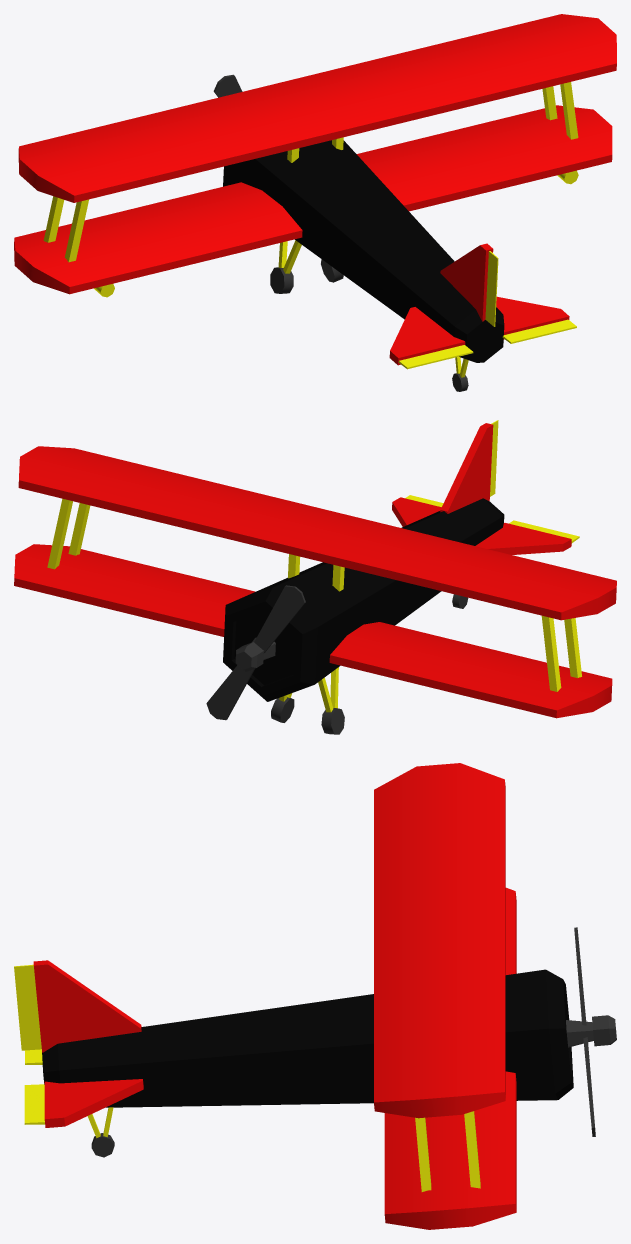
File: AirPlane2.fbx
3 renders of one model, top to bottom at view 1: azimuth 30°, elevation 25°; view 2: azimuth 150°, elevation 25°; view 3: azimuth 270°, elevation 25°, orthographic. The views are drawn at different scales.
Visible parts, largest first — view 1: Box004, Box003, Cylinder001, Box019, Box017, Box018, Box009, Rudder, ElevatorLeft, ElevatorRight, Box008, Box010 (+1 smaller); view 2: Box004, Box003, Cylinder001, Box017, Box019, Box001, Box002, Box010, Box018, Box007, Box009, Cylinder003 (+4 smaller); view 3: Box004, Cylinder001, Box003, Box017, Box018, Rudder, ElevatorRight, Box007, Box008, Cylinder003.
Boxes of the visible parts, <box> form: Box004: <box>18,14,616,202</box>; Box003: <box>14,105,612,294</box>; Cylinder001: <box>223,140,504,362</box>; Box019: <box>389,307,465,365</box>; Box017: <box>440,243,493,321</box>; Box018: <box>496,296,569,339</box>; Box009: <box>64,199,88,262</box>; Rudder: <box>485,251,498,326</box>; ElevatorLeft: <box>398,345,473,369</box>; ElevatorRight: <box>502,319,576,343</box>; Box008: <box>560,82,578,139</box>; Box010: <box>43,196,64,242</box>; Box004: <box>18,446,616,620</box>; Box003: <box>14,544,612,718</box>; Cylinder001: <box>223,498,504,701</box>; Box017: <box>440,423,493,513</box>; Box019: <box>475,523,571,554</box>; Box001: <box>254,585,305,653</box>; Box002: <box>206,665,254,720</box>; Box010: <box>541,615,561,691</box>; Box018: <box>392,497,441,526</box>; Box007: <box>47,498,72,569</box>; Box009: <box>564,618,581,678</box>; Cylinder003: <box>235,642,263,671</box>; Box004: <box>374,763,505,1118</box>; Cylinder001: <box>42,969,573,1107</box>; Box003: <box>384,887,516,1229</box>; Box017: <box>33,960,141,1052</box>; Box018: <box>44,1079,143,1127</box>; Rudder: <box>14,964,41,1050</box>; ElevatorRight: <box>24,1084,44,1124</box>; Box007: <box>464,1111,480,1188</box>; Box008: <box>415,1117,431,1191</box>; Cylinder003: <box>592,1015,616,1046</box>.
Size of the model in its own units: 120 by 39.58 by 91.69.
